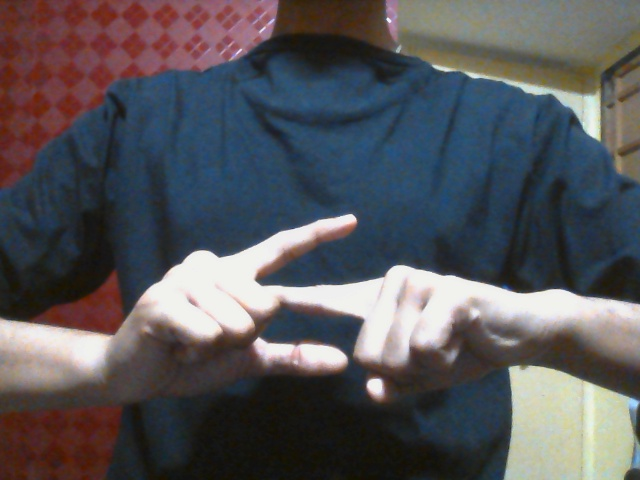E: (131, 212, 502, 411)
